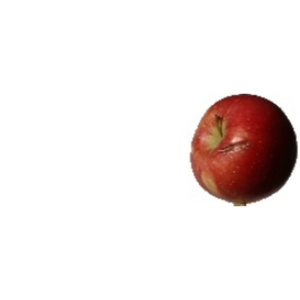maçã braeburn: (188, 91, 298, 203)
